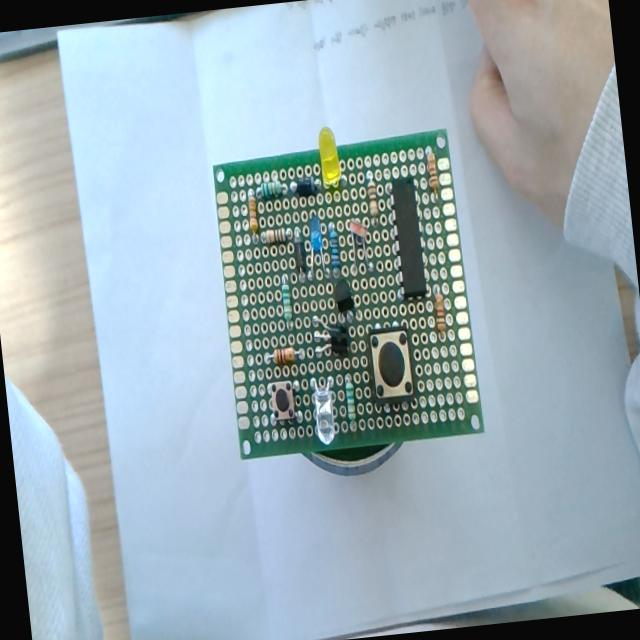IC: (388, 177, 428, 301)
cds: (345, 216, 373, 276)
diode: (289, 222, 307, 282), (288, 173, 324, 199)
led: (308, 376, 339, 445), (314, 126, 344, 192), (304, 214, 328, 282)
resistor: (364, 172, 381, 228), (326, 222, 342, 278), (267, 344, 301, 368), (279, 274, 294, 328), (424, 146, 440, 193), (432, 288, 447, 335), (256, 178, 286, 200), (246, 189, 260, 236), (343, 374, 356, 421), (261, 226, 288, 245)
switch: (369, 326, 415, 401), (266, 372, 302, 426)
transistor: (310, 314, 350, 359), (333, 274, 357, 322)
